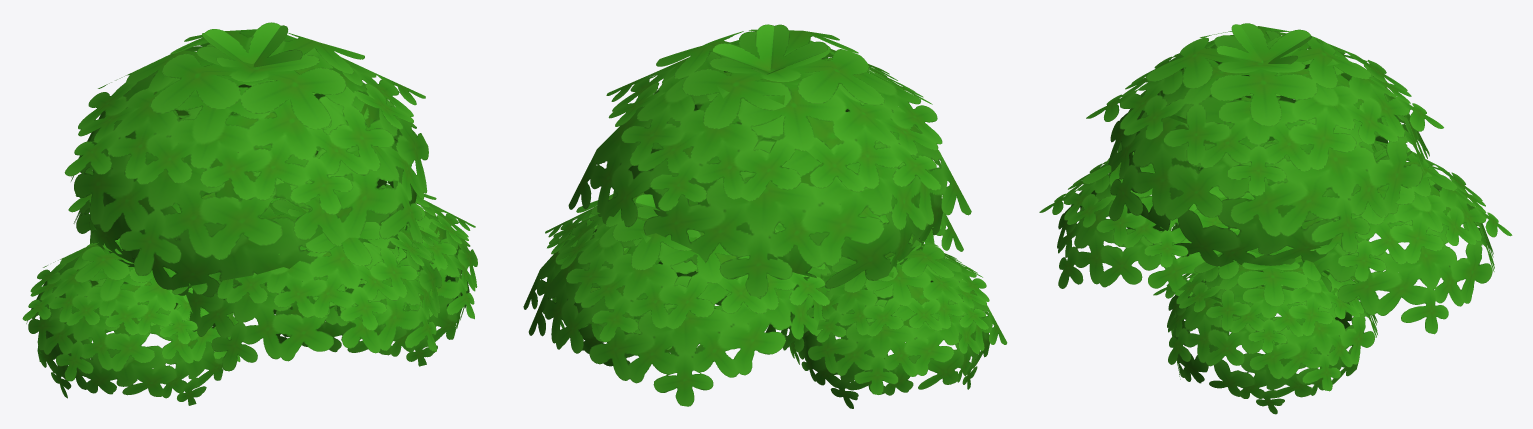
The model's file is Foliage_RoundNatural_Small.fbx.
The picture shows the model from 3 angles, left to right: view 1: azimuth 30°, elevation 25°; view 2: azimuth 150°, elevation 25°; view 3: azimuth 270°, elevation 25°; orthographic projection. The views are drawn at different scales.
Visible parts, largest first — view 1: Foliage_RoundNatural_Small; view 2: Foliage_RoundNatural_Small; view 3: Foliage_RoundNatural_Small.
Part boxes in pixels (bbox=[...]): Foliage_RoundNatural_Small: bbox=[22, 22, 477, 405]; Foliage_RoundNatural_Small: bbox=[523, 24, 1007, 408]; Foliage_RoundNatural_Small: bbox=[1039, 23, 1512, 414].
Size of the model in its own units: 726 by 489 by 708.
Materials: 1 (1 with a texture image).
